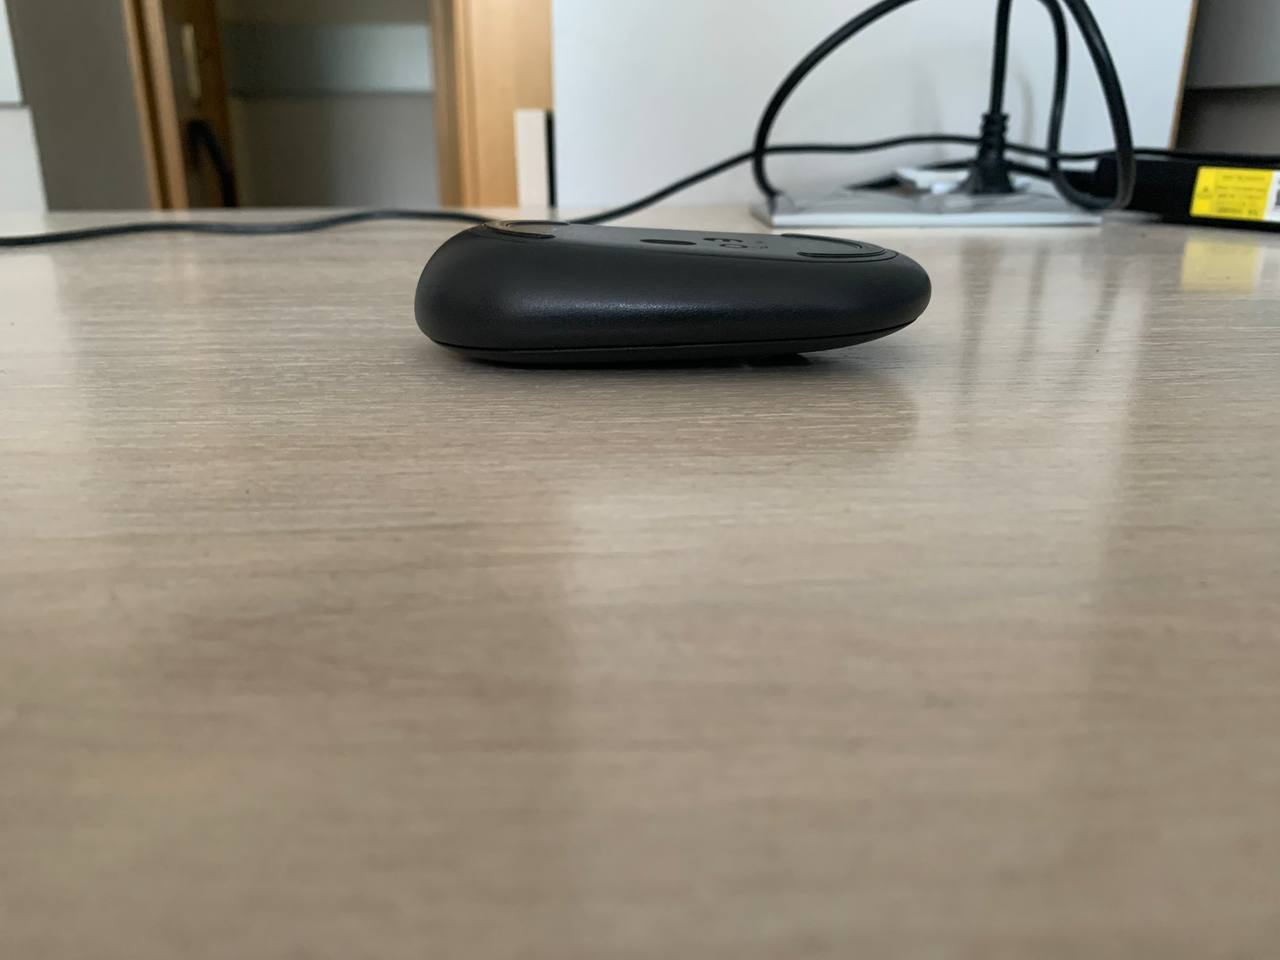mouse: (414, 223, 931, 365)
